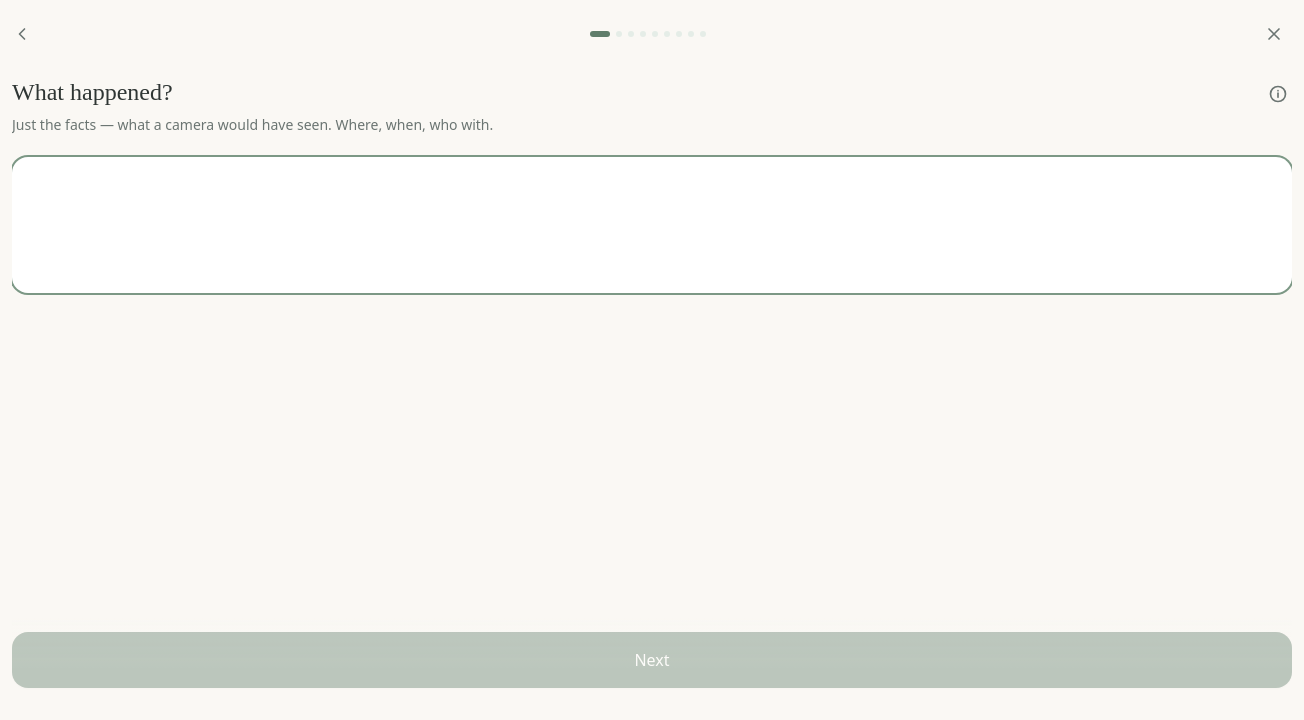
Scenario: starts on the situation step with Next disabled until text is entered
Expected: the heading "What happened?" is shown, [12,76,173,108]
Expected: the button "Next" is disabled, [12,632,1292,688]
In the text box: (652, 225) [12,157,1292,293], type "Missed the bus"
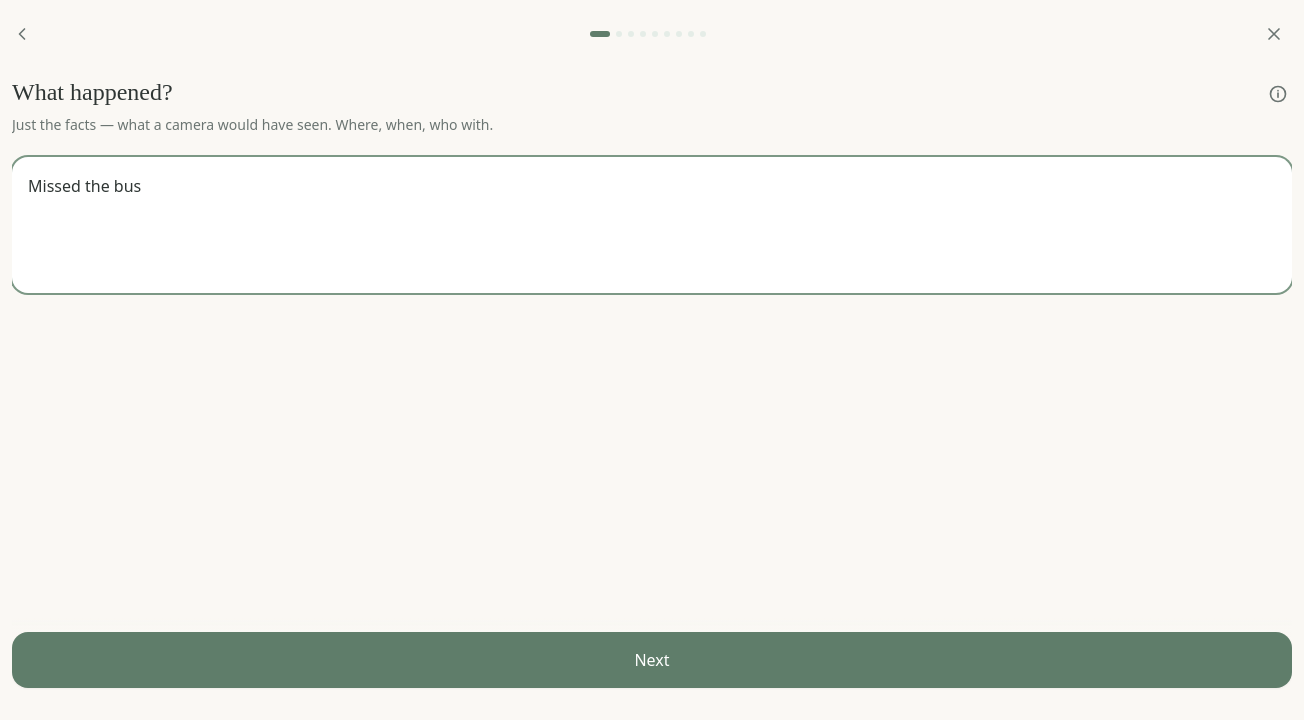
Result: the button "Next" is enabled at [12,632,1292,688]
